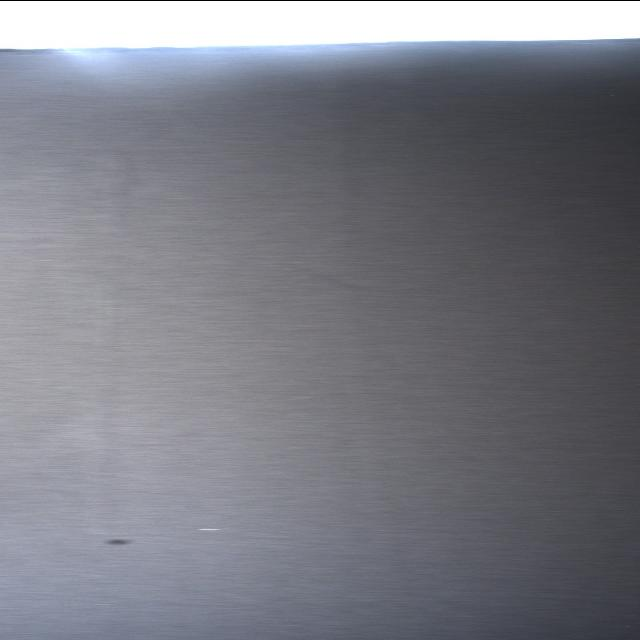crease: (85, 295, 137, 536), (91, 147, 139, 225), (283, 267, 366, 291)
whiteDefect: (188, 526, 227, 531)
